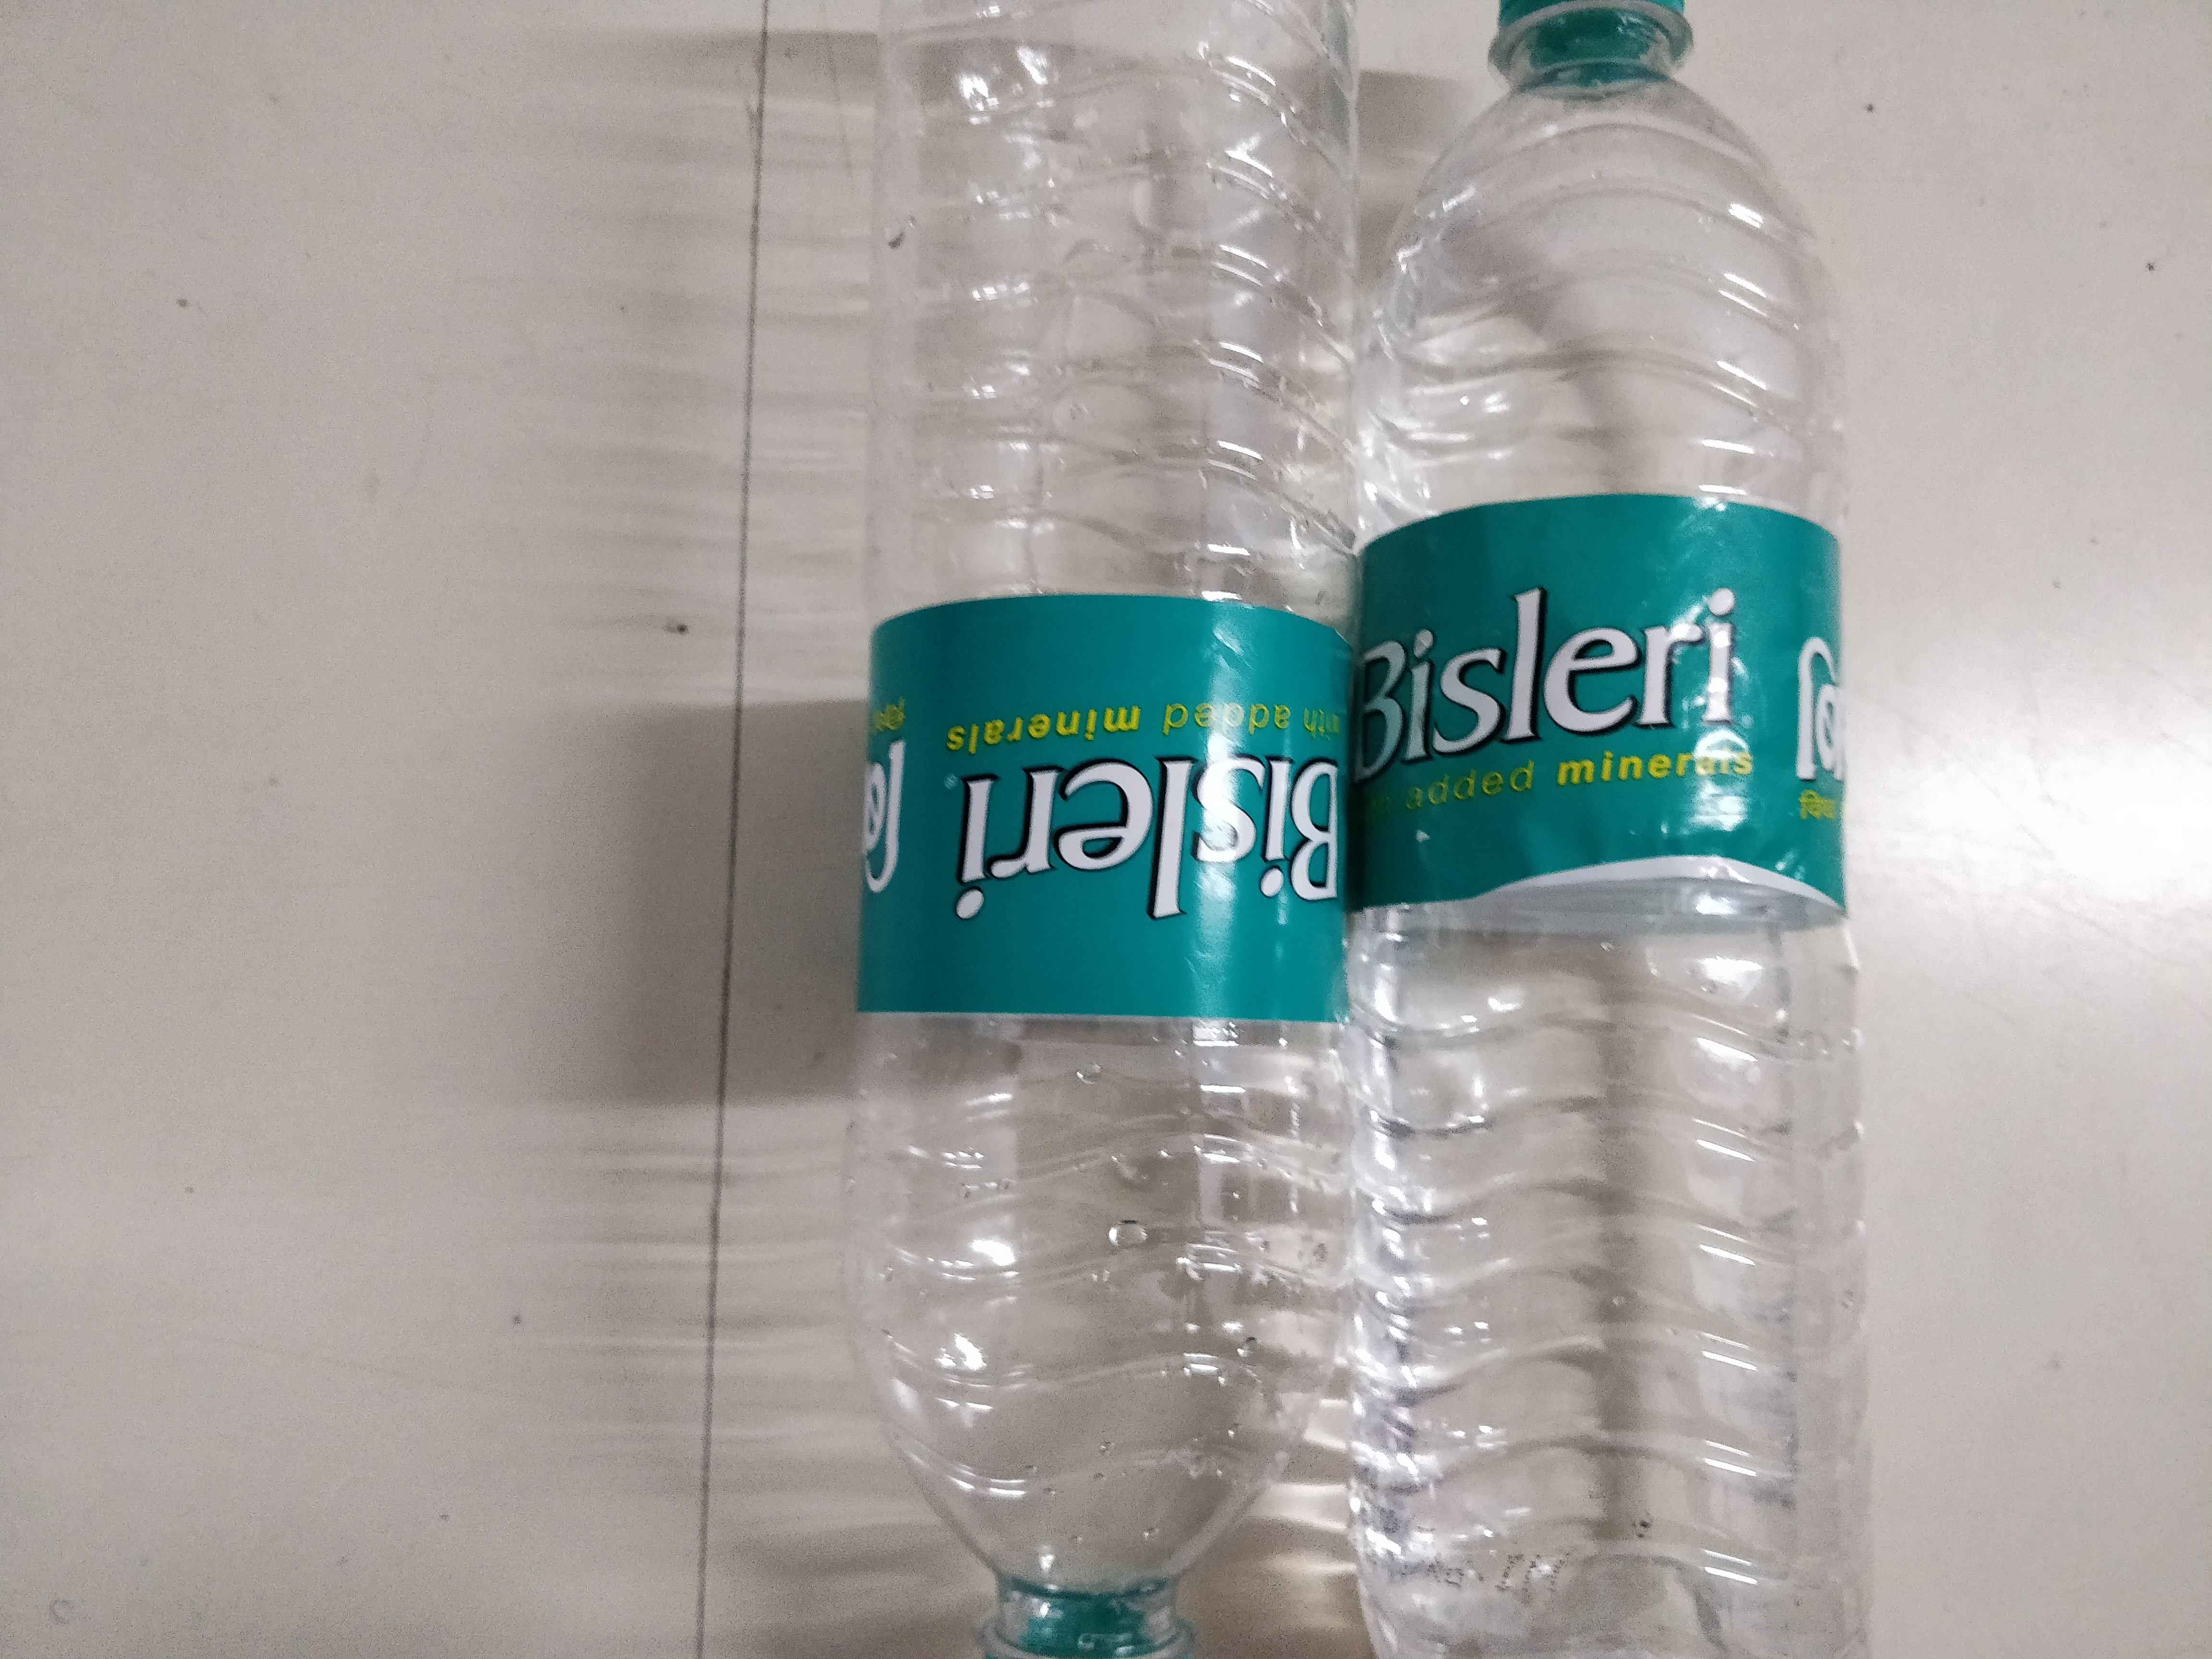Bisleri: (864, 648, 1353, 1025), (1338, 573, 1838, 850)
